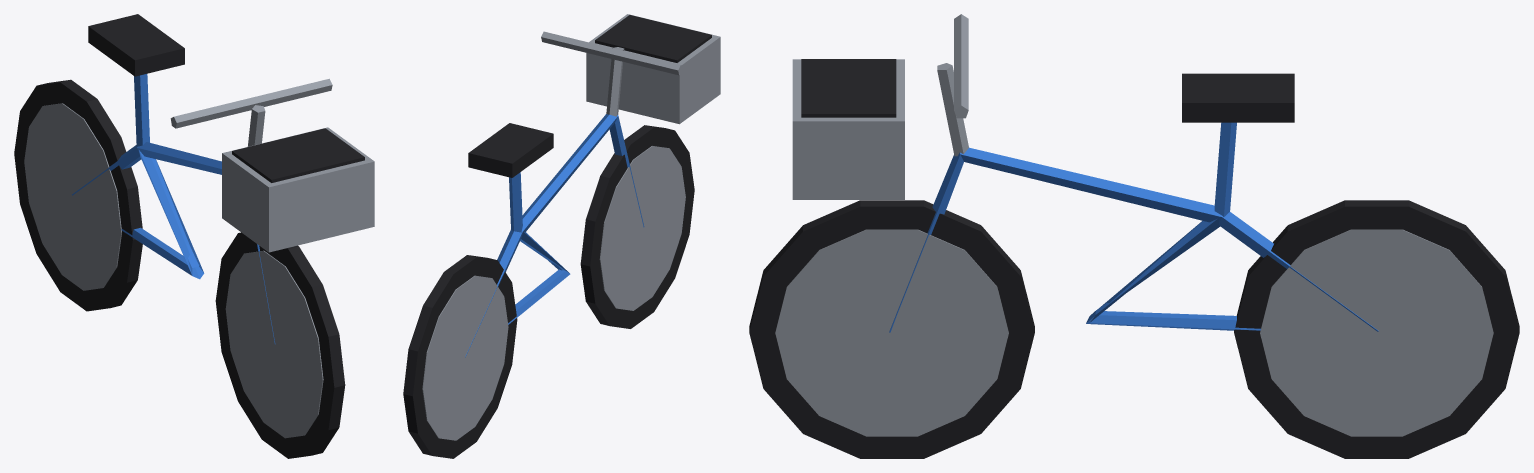
The model's file is p_bike.glb.
3 renders of one model, left to right at view 1: azimuth 30°, elevation 25°; view 2: azimuth 150°, elevation 25°; view 3: azimuth 270°, elevation 25°, orthographic. The views are drawn at different scales.
Parts seen in each view (by area): view 1: bike; view 2: bike; view 3: bike.
Boxes of the visible parts, box(x1,y1,x2,y2) form: bike: box(14, 14, 374, 458); bike: box(403, 14, 720, 458); bike: box(749, 14, 1519, 458).
Size of the model in its own units: 0.5 by 1.01 by 1.78.
